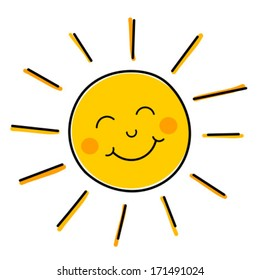sun: (6, 16, 249, 246)
